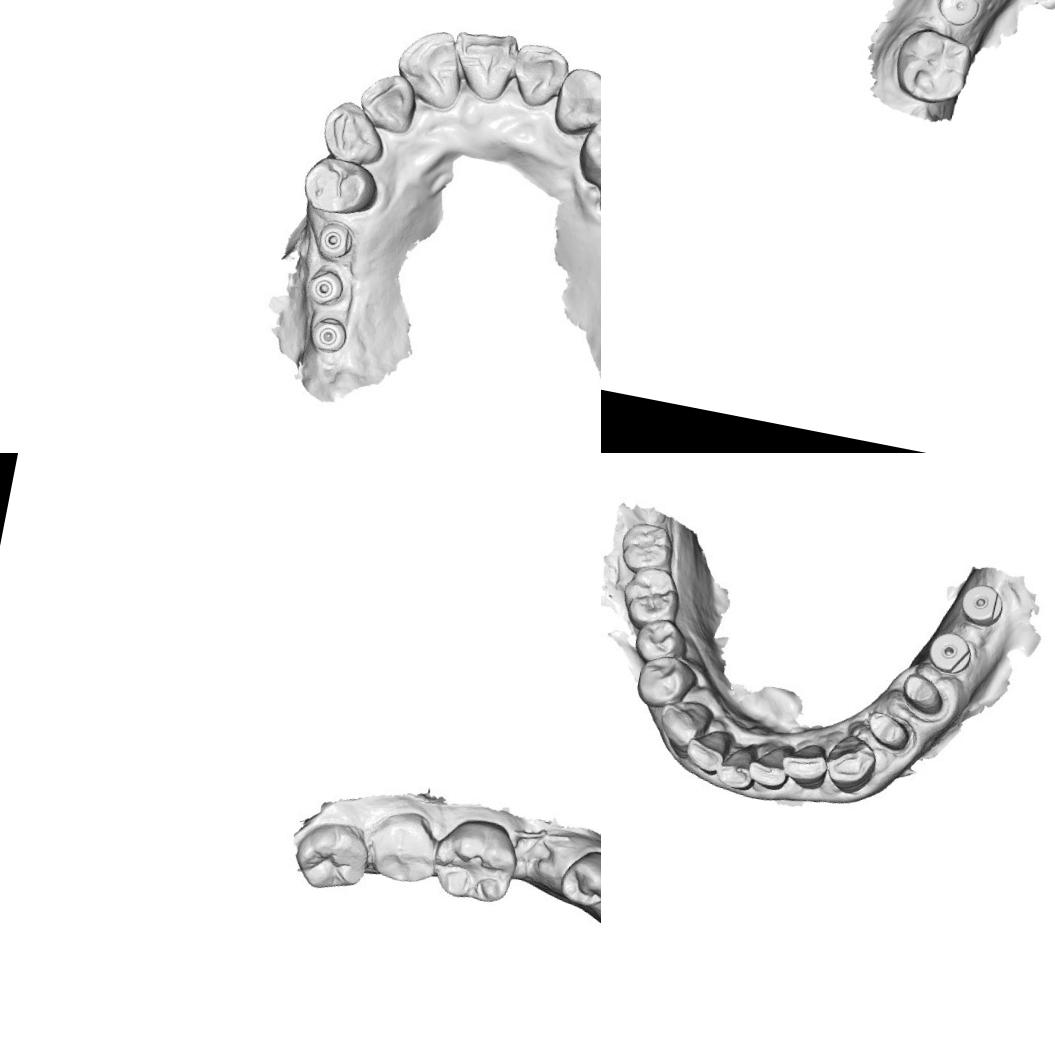canine: (314, 96, 390, 170), (645, 689, 715, 758), (545, 60, 601, 143), (822, 731, 880, 796)
crown: (860, 709, 914, 750), (896, 672, 944, 714)
implant: (302, 262, 350, 311), (926, 630, 975, 677), (956, 582, 1005, 628), (308, 307, 352, 357), (314, 218, 356, 260), (933, 0, 983, 29)
incisor: (388, 22, 472, 115), (444, 22, 522, 112), (502, 36, 572, 115), (350, 67, 422, 137), (684, 723, 735, 778), (783, 737, 832, 790), (747, 739, 795, 792), (719, 740, 763, 792)
molar: (426, 814, 521, 912), (286, 812, 379, 898), (888, 21, 976, 110), (360, 805, 441, 891), (618, 566, 684, 631), (620, 518, 672, 574)
premolar: (297, 150, 382, 224), (632, 652, 695, 712), (555, 848, 601, 917), (633, 616, 684, 661), (584, 114, 601, 180)
